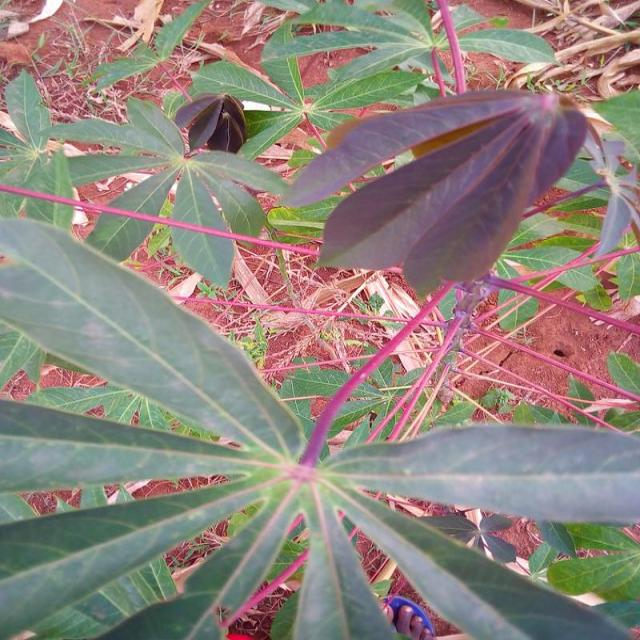cassava leaf: (2, 215, 639, 638), (2, 214, 307, 464), (278, 86, 590, 305)
